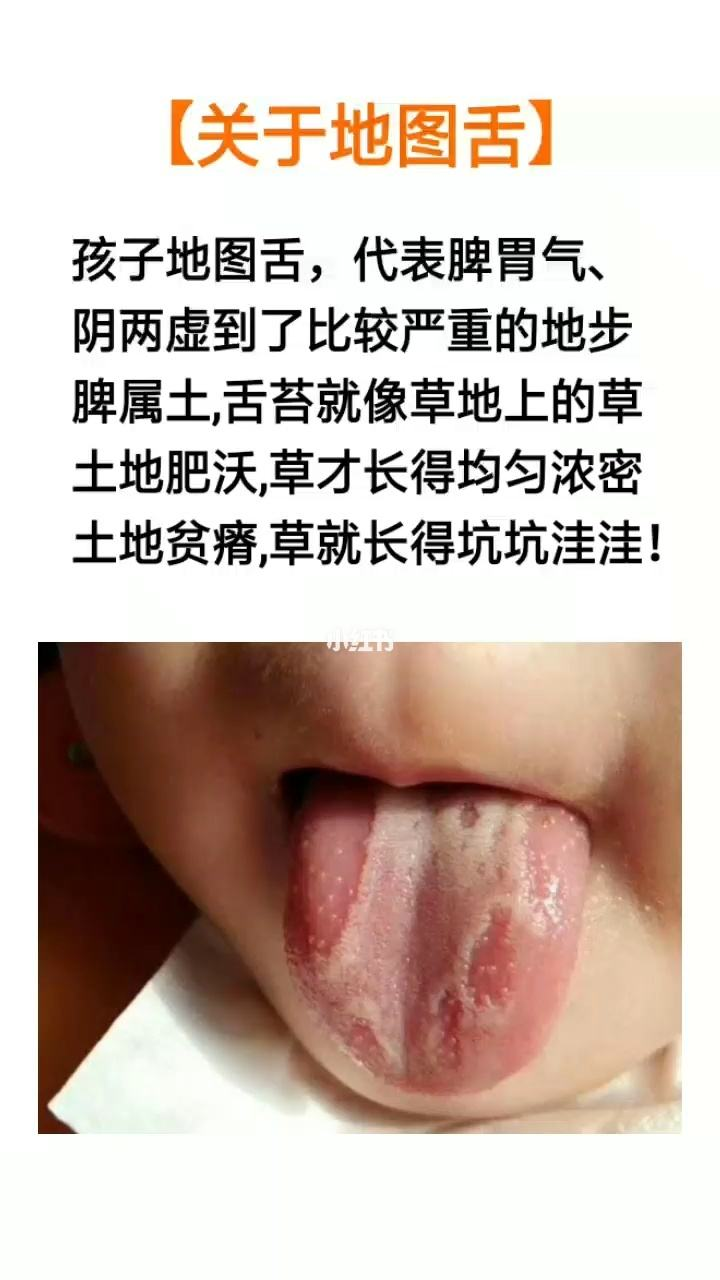baitaishe: (285, 784, 590, 1099)
botaishe: (423, 881, 521, 1081), (296, 794, 390, 959)
huataishe: (302, 832, 355, 926)
